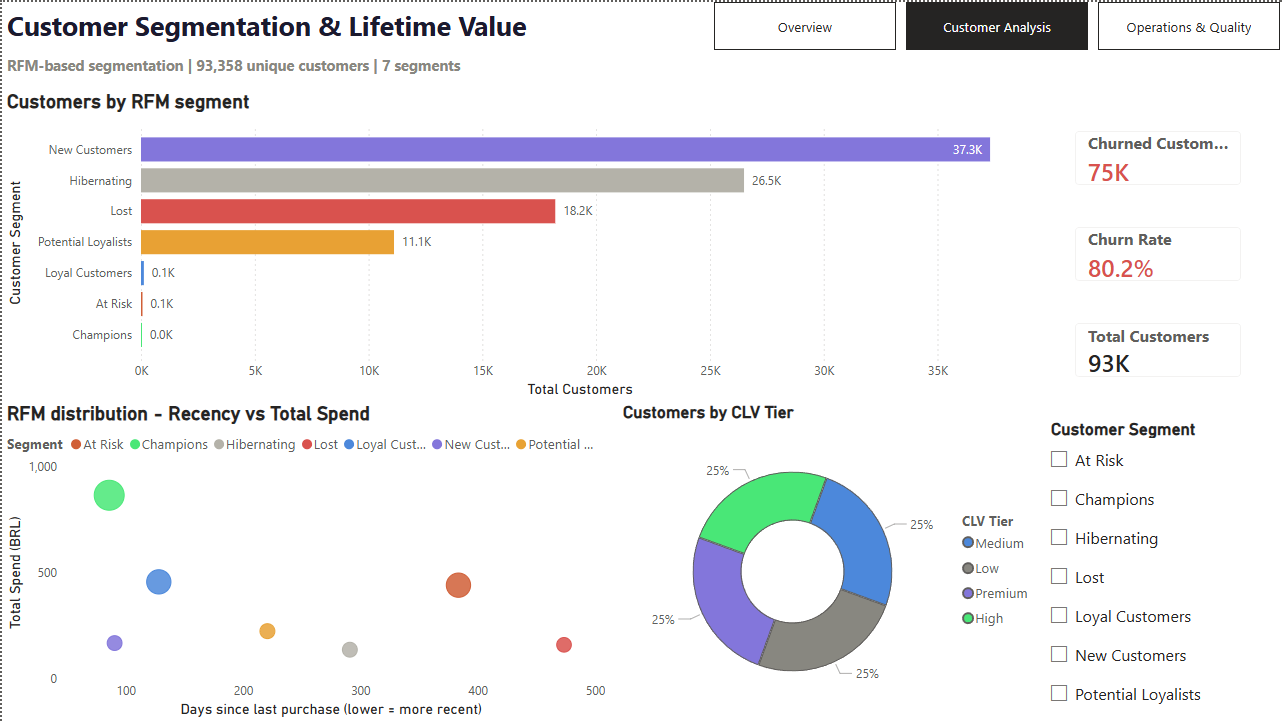

What the dashboard file says about the page in this screenshot:
{"tool":"powerbi","page":{"name":"Customer Analysis","canvas":[1280,720],"ordinal":1},"visuals":[{"type":"textbox","box":[0,0,552,48],"z":0},{"type":"textbox","box":[0,48,480,32],"z":1000},{"type":"clusteredBarChart","title":"Customers by RFM segment","fields":{"Category":["dim_customers.customer_segment"],"Y":["_Measures.Total Customers"]},"box":[0,88,1032,312],"z":2000},{"type":"scatterChart","title":"RFM distribution - Recency vs Total Spend","fields":{"X":["Avg(rfm_scores.recency)"],"Y":["Avg(rfm_scores.monetary)"],"Size":["Avg(rfm_scores.frequency)"],"Series":["rfm_scores.customer_segment"]},"box":[0,400,608,320],"z":3000},{"type":"cardVisual","fields":{"Data":["_Measures.Total Customers"]},"box":[1056,304,200,88],"z":4000},{"type":"cardVisual","fields":{"Data":["_Measures.Churned Customers"]},"box":[1056,112,200,88],"z":5000},{"type":"cardVisual","fields":{"Data":["_Measures.Churn Rate"]},"box":[1056,208,200,88],"z":6000},{"type":"donutChart","title":"Customers by CLV Tier","fields":{"Category":["dim_customers.clv_tier"],"Y":["_Measures.Total Customers"]},"box":[616,400,424,320],"z":7000},{"type":"slicer","fields":{"Values":["dim_customers.customer_segment"]},"box":[1032,408,248,312],"z":8000},{"type":"pageNavigator","box":[712,0,568,48],"z":8001}]}

Visuals, with their boxes in screenshot pixels (x1, y1, x2, y2), scaled from the page's 1280x720 canvas onto the 1282x722 screenshot:
textbox: (left=0, top=0, right=553, bottom=48)
textbox: (left=0, top=48, right=481, bottom=80)
"Customers by RFM segment" clusteredBarChart: (left=0, top=88, right=1034, bottom=401)
"RFM distribution - Recency vs Total Spend" scatterChart: (left=0, top=401, right=609, bottom=721)
cardVisual - _Measures.Total Customers: (left=1058, top=305, right=1258, bottom=393)
cardVisual - _Measures.Churned Customers: (left=1058, top=112, right=1258, bottom=201)
cardVisual - _Measures.Churn Rate: (left=1058, top=209, right=1258, bottom=297)
"Customers by CLV Tier" donutChart: (left=617, top=401, right=1042, bottom=721)
slicer - dim_customers.customer_segment: (left=1034, top=409, right=1281, bottom=721)
pageNavigator: (left=713, top=0, right=1281, bottom=48)
